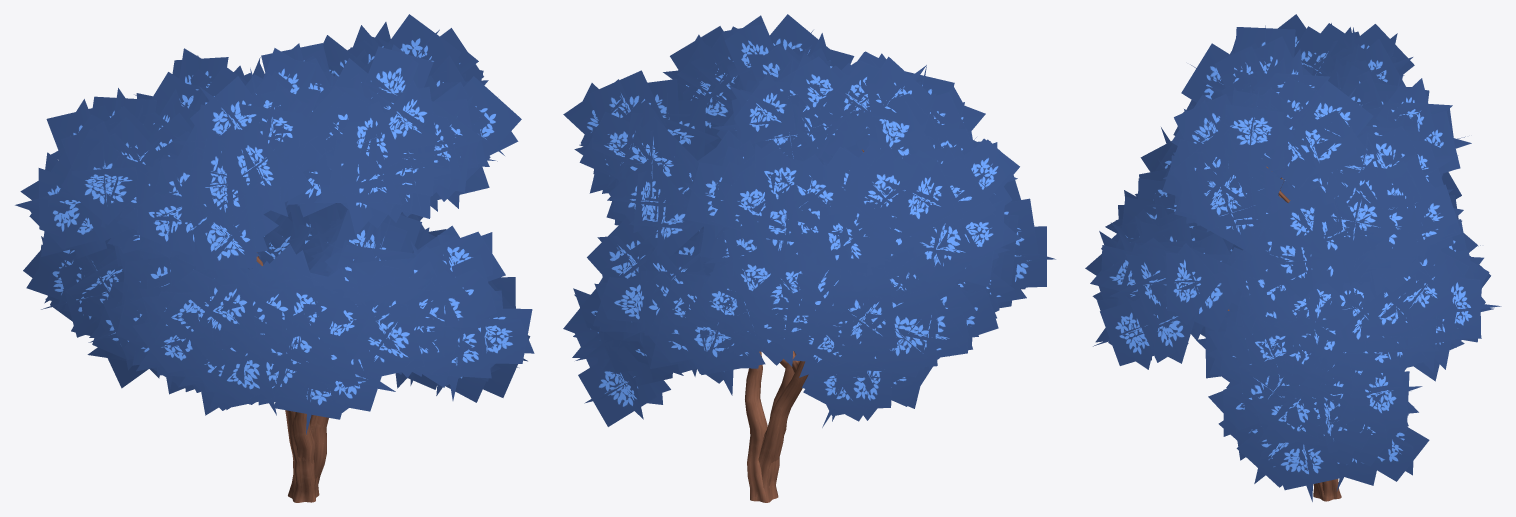
Rendered from B_Tree_05.glb.
The picture shows the model from 3 angles, left to right: view 1: azimuth 30°, elevation 25°; view 2: azimuth 150°, elevation 25°; view 3: azimuth 270°, elevation 25°; orthographic projection. The views are drawn at different scales.
Visible parts, largest first — view 1: B_Tree_05; view 2: B_Tree_05; view 3: B_Tree_05.
Part boxes in pixels (x1,y1,x2,y2): B_Tree_05: (15,14,534,502); B_Tree_05: (563,14,1055,502); B_Tree_05: (1085,14,1501,501).
Size of the model in its own units: 6.67 by 6.26 by 5.54.
Materials: 2 (2 with a texture image).
